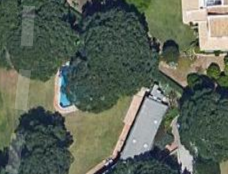pool: (59, 69, 76, 108)
